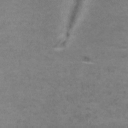finishing roll printing: (66, 0, 84, 38), (58, 40, 67, 48), (83, 55, 90, 62)
